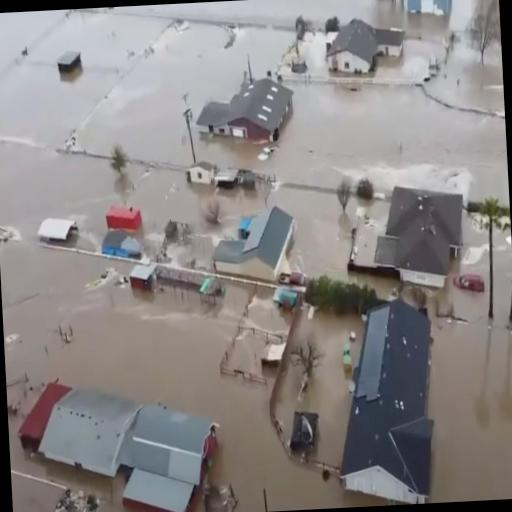flood: (0, 0, 509, 512), (427, 210, 512, 503), (429, 231, 512, 503), (276, 306, 365, 466), (426, 0, 505, 112), (222, 293, 292, 376), (375, 38, 442, 81), (167, 233, 219, 270), (299, 30, 329, 75)
house: (14, 372, 223, 512), (331, 290, 448, 508), (340, 168, 469, 293), (198, 70, 296, 150), (215, 203, 299, 288), (325, 12, 408, 80), (405, 0, 454, 22), (188, 159, 216, 186)
